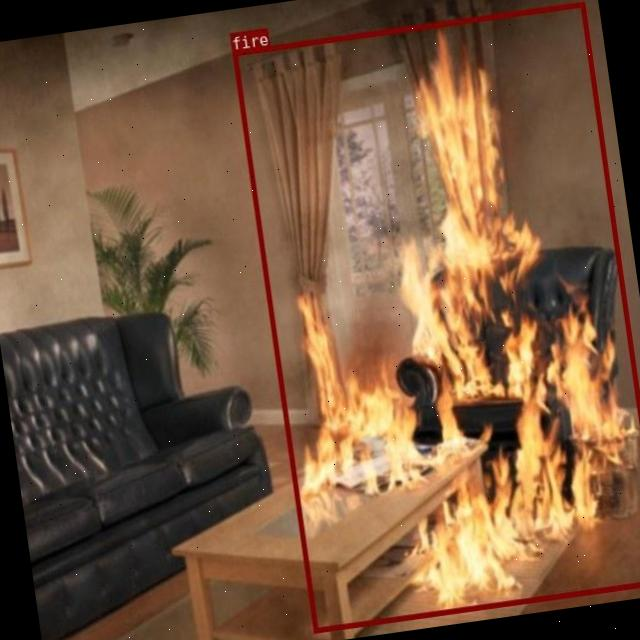fire: (232, 1, 640, 632)
